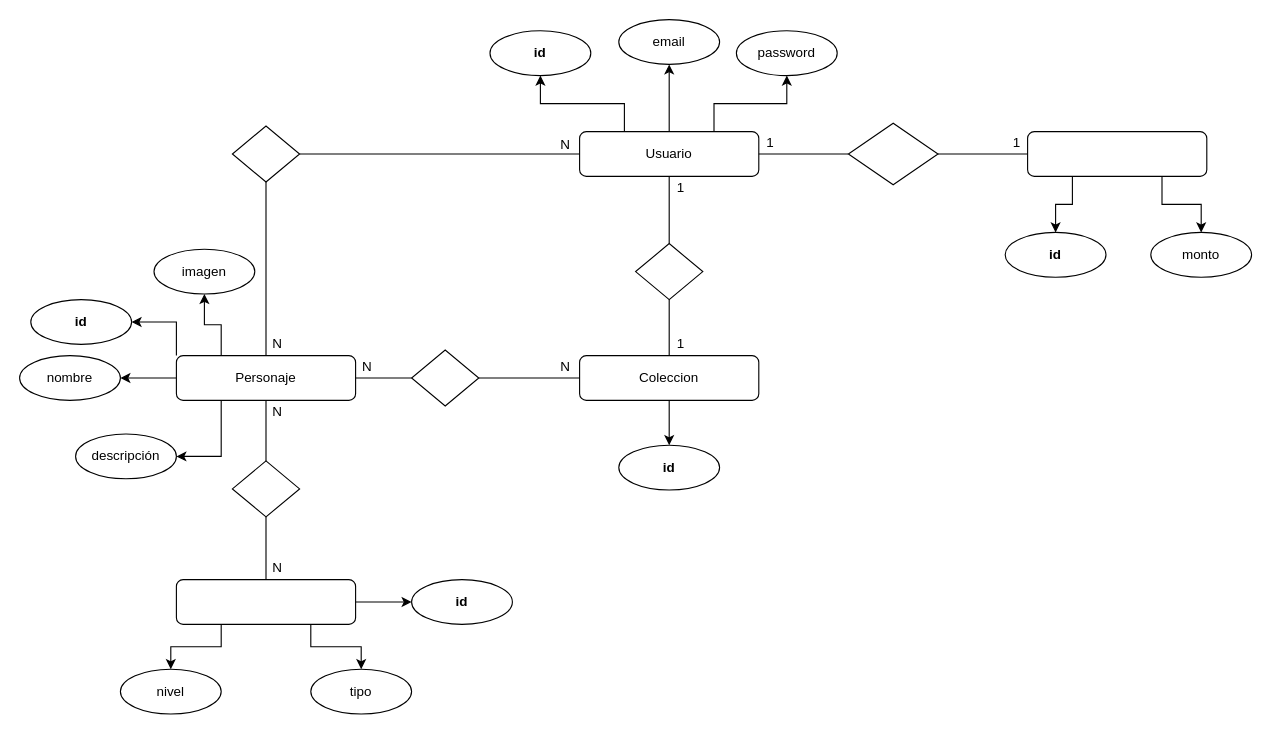
Some shapes in this 1271 by 734 pixel diagram are drawn without their labels. Each missing label, with the centre of its shape:
"Billetera" belongs at (1116,153).
"Característica" belongs at (265,601).
"comprar" belongs at (265,153).
"está" belongs at (444,377).
"posee" belongs at (265,488).
"tiene" belongs at (668,271).
"tiene_una" belongs at (892,153).
